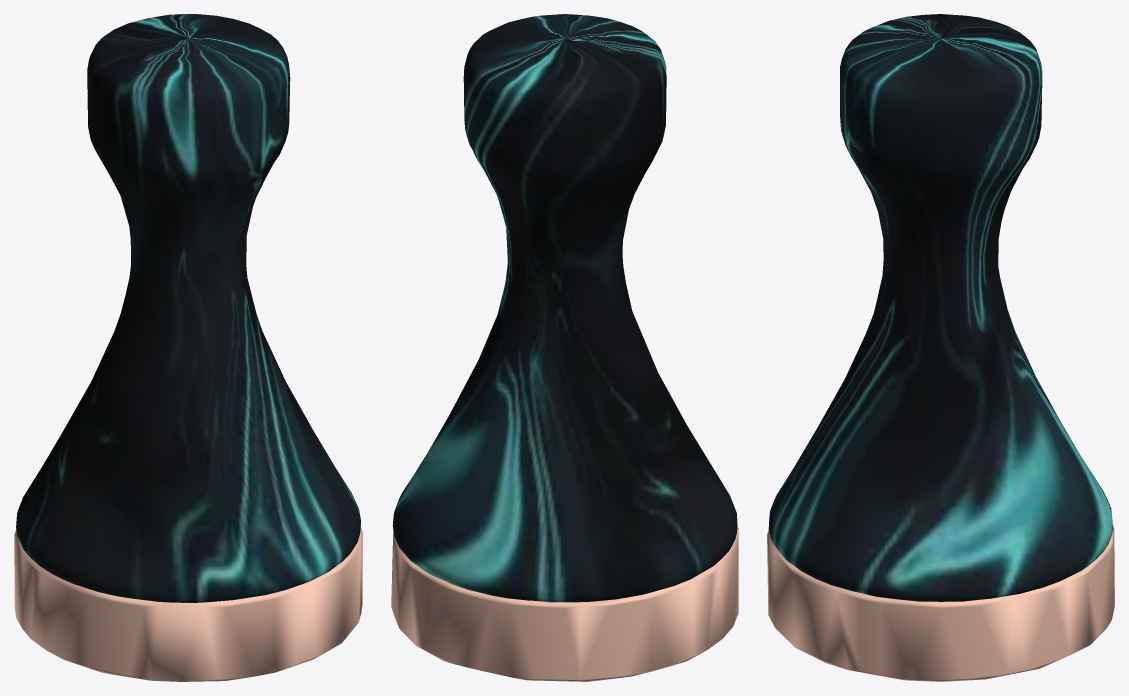
The model's file is vez_cerna.glb.
3 renders of one model, left to right at view 1: azimuth 30°, elevation 25°; view 2: azimuth 150°, elevation 25°; view 3: azimuth 270°, elevation 25°, orthographic.
Visible parts, largest first — view 1: vez_cerna; view 2: vez_cerna; view 3: vez_cerna.
Part boxes in pixels (left/top/right/bottom): vez_cerna: left=14, top=14, right=362, bottom=681; vez_cerna: left=391, top=14, right=738, bottom=681; vez_cerna: left=767, top=14, right=1114, bottom=681.
Size of the model in its own units: 0.058 by 0.1051 by 0.058.
Materials: 2 (1 with a texture image).
